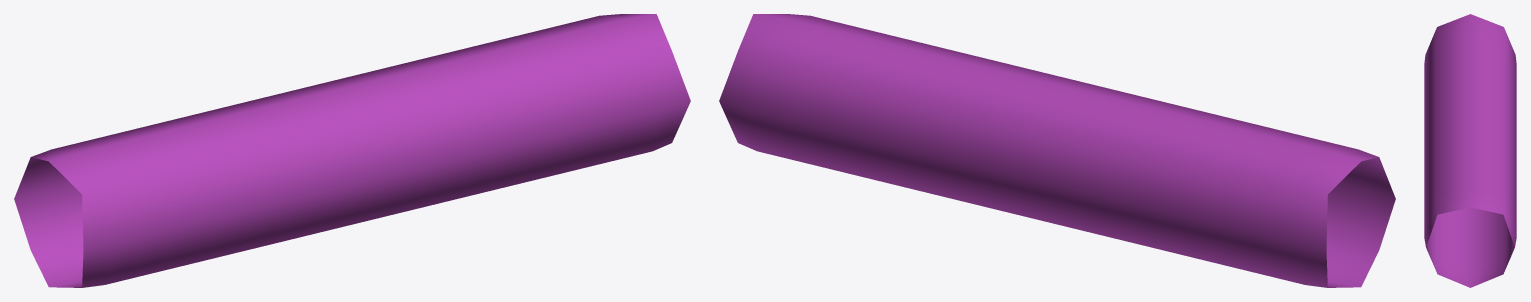
Rendered from tunnelstraight2.fbx.
3 renders of one model, left to right at view 1: azimuth 30°, elevation 25°; view 2: azimuth 150°, elevation 25°; view 3: azimuth 270°, elevation 25°, orthographic. The views are drawn at different scales.
Visible parts, largest first — view 1: tunnel; view 2: tunnel; view 3: tunnel.
Boxes of the visible parts, x1=… form: tunnel: x1=14, y1=14, x2=690, y2=287; tunnel: x1=719, y1=14, x2=1395, y2=287; tunnel: x1=1424, y1=14, x2=1516, y2=287.
Size of the model in its own units: 0.2381 by 0.0482 by 0.0482.
